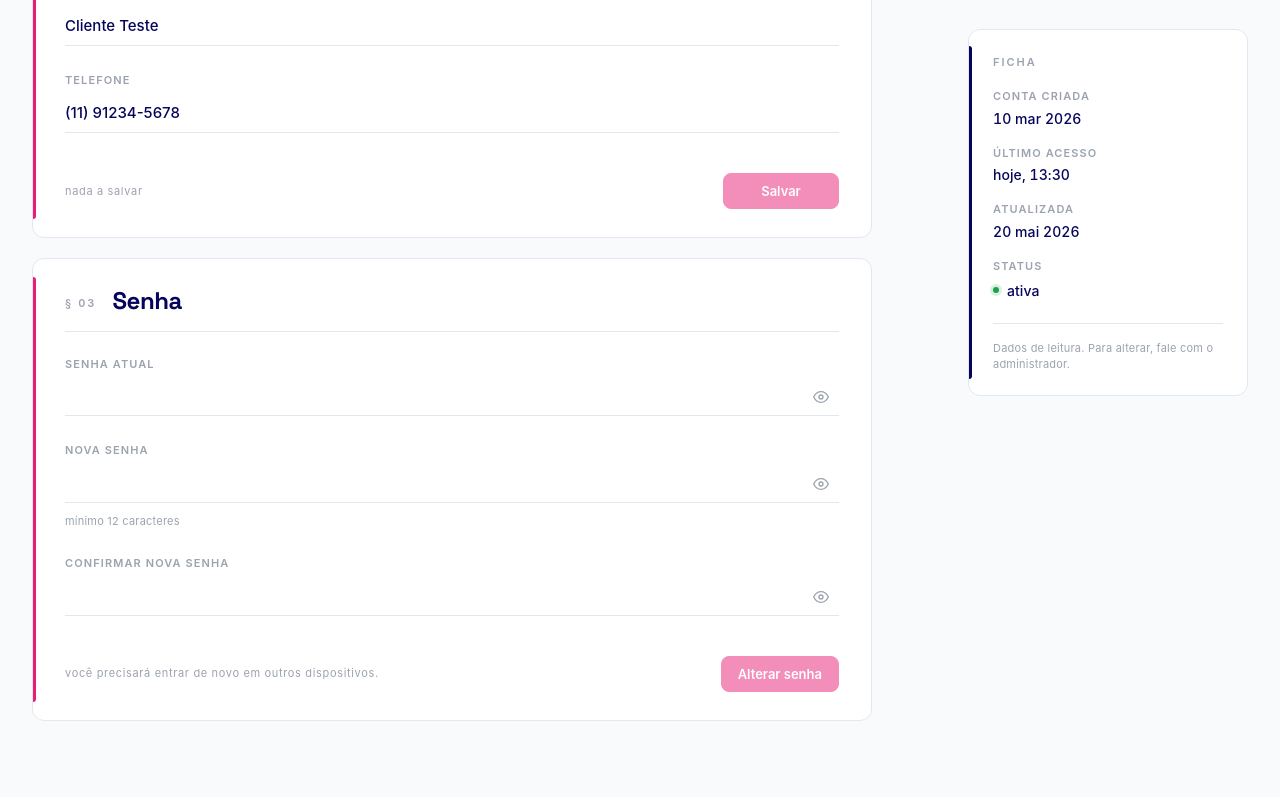
AccountPage › alterar senha envia current/new, limpa o formulário e avisa o sucesso
(page scrolled)
Type "senha-atual-123" into the password field labelled "senha atual" at [452, 397], box 65,378 -> 839,416
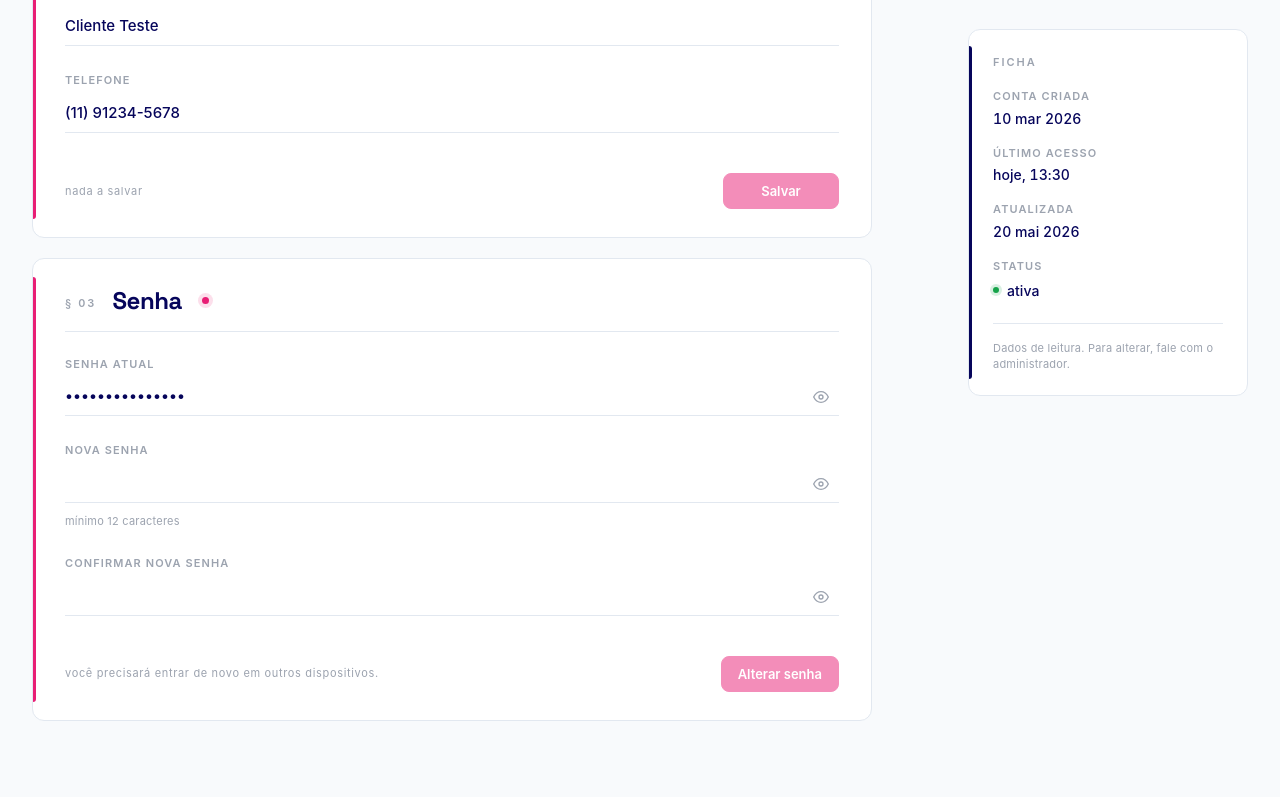
Type "Nova-senha-forte-1" into the password field labelled "nova senha" at [452, 484], box 65,464 -> 839,502
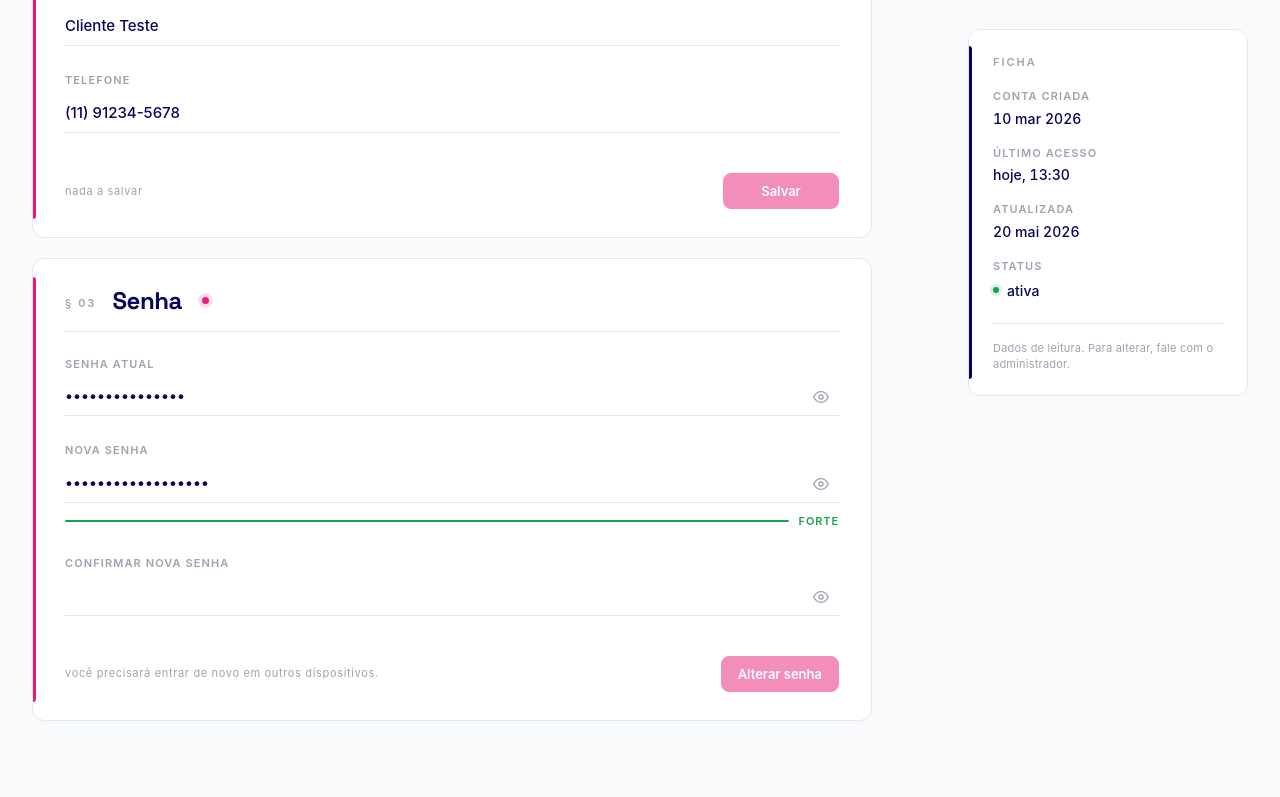
Type "Nova-senha-forte-1" into the password field labelled "confirmar nova senha" at [452, 596], box 65,578 -> 839,616
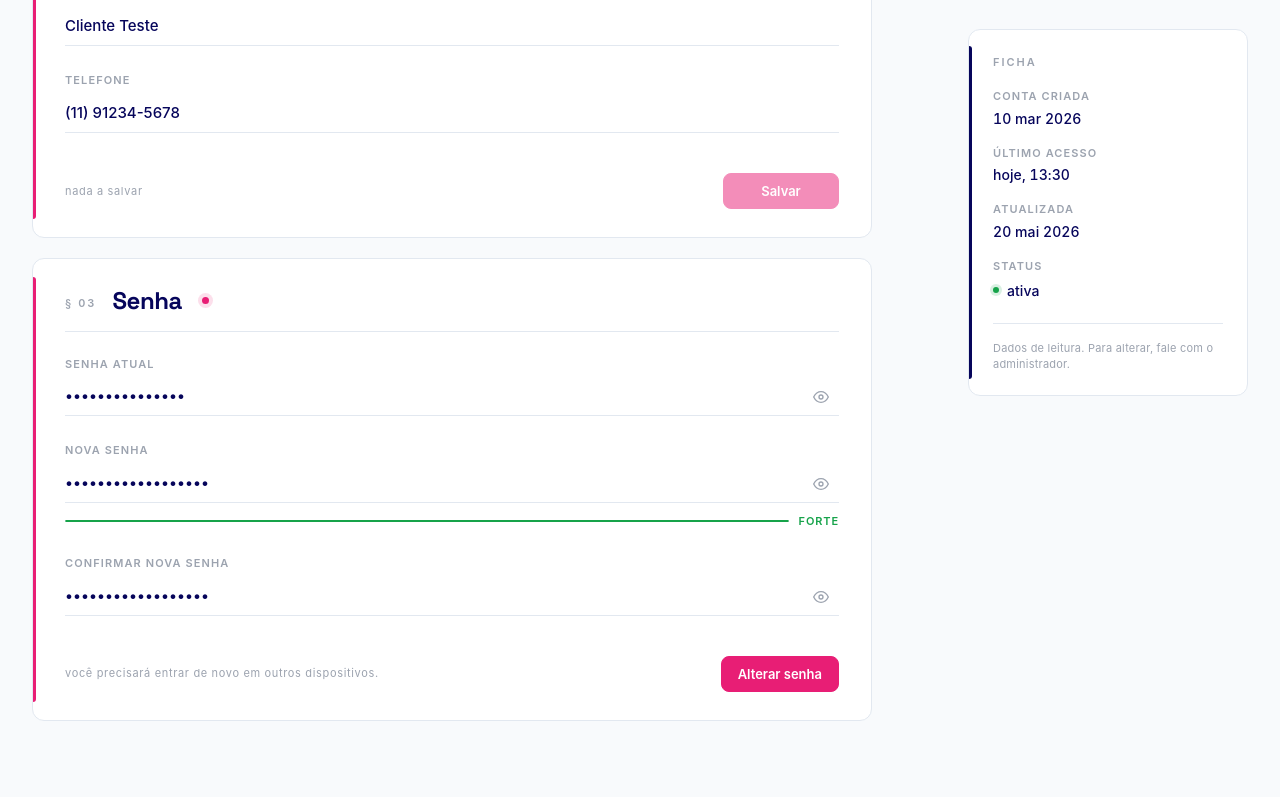
Click the button "Alterar senha" at [780, 674], box 721,656 -> 839,692
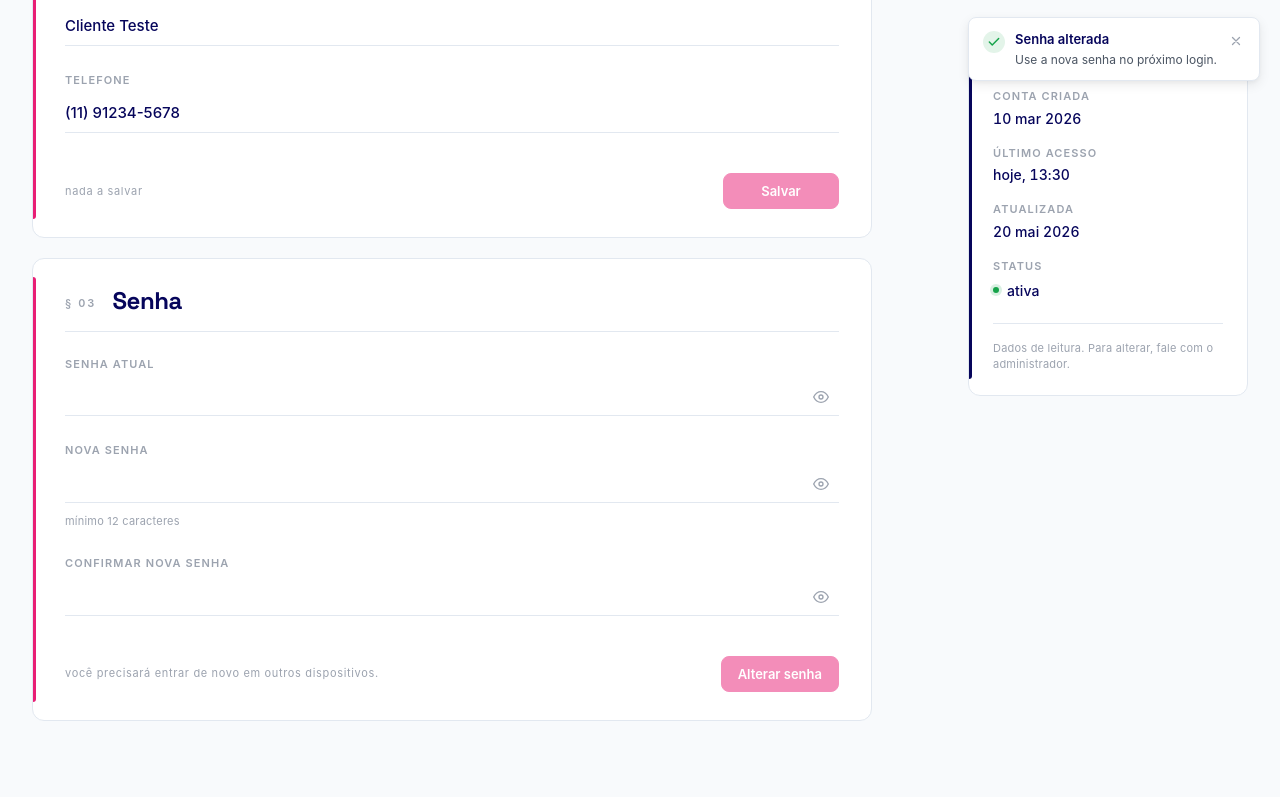
Expected: the text "Senha alterada" is shown, 1015,31 -> 1109,47
Expected: the password field labelled "senha atual" is empty, 65,378 -> 839,416
Expected: the password field labelled "nova senha" is empty, 65,464 -> 839,502
